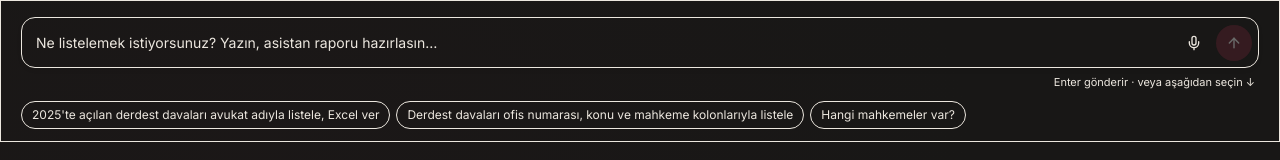
AssistantBar mikrofon (G217) › 503 → girdinin altında sunucu mesajı
The width and height of the screenshot is (1280, 160).
What coordinates should you click on to do the following:
click the button with test id "mic-button"
I would click on:
 (1194, 43)
Its box is top-left (1176, 25), bottom-right (1212, 61).
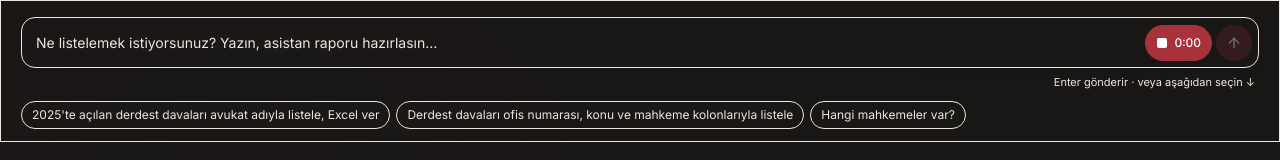
What coordinates should you click on to do the following:
click the button with test id "mic-button"
I would click on:
 (1179, 43)
Its box is top-left (1145, 25), bottom-right (1212, 61).
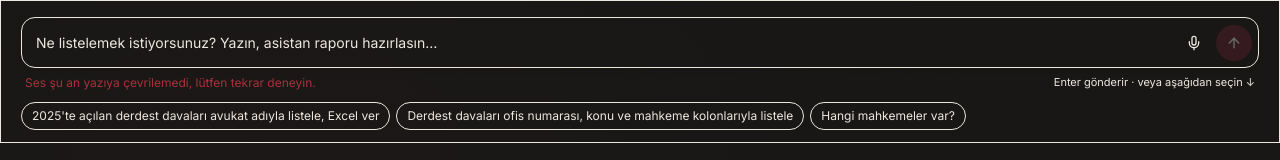
Expected: the text box named "Asistana mesaj" is empty, top-left (36, 24), bottom-right (1172, 61)
Expected: the message with test id "mic-durum" reads "Ses şu an yazıya çevrilemedi, lütfen tekrar deneyin.", top-left (25, 75), bottom-right (316, 90)
